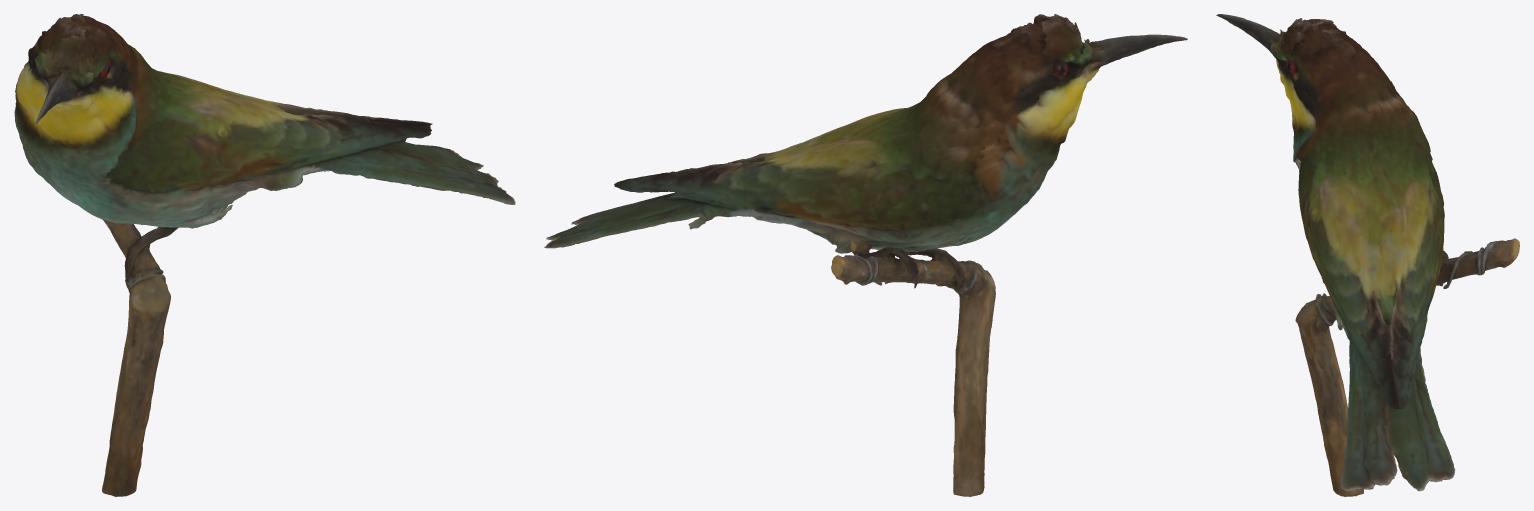
Rendered from bird.glb.
3 views of the same model, side by side, from view 1: azimuth 30°, elevation 25°; view 2: azimuth 150°, elevation 25°; view 3: azimuth 270°, elevation 25° (orthographic). The views are drawn at different scales.
Parts seen in each view (by area): view 1: Object_2; view 2: Object_2; view 3: Object_2.
Part boxes in pixels (x1=…): Object_2: x1=14, y1=14, x2=515, y2=496; Object_2: x1=544, y1=14, x2=1187, y2=496; Object_2: x1=1216, y1=14, x2=1519, y2=496.
Bounding box in the file's own units: 2.49 × 2.12 × 1.31.
